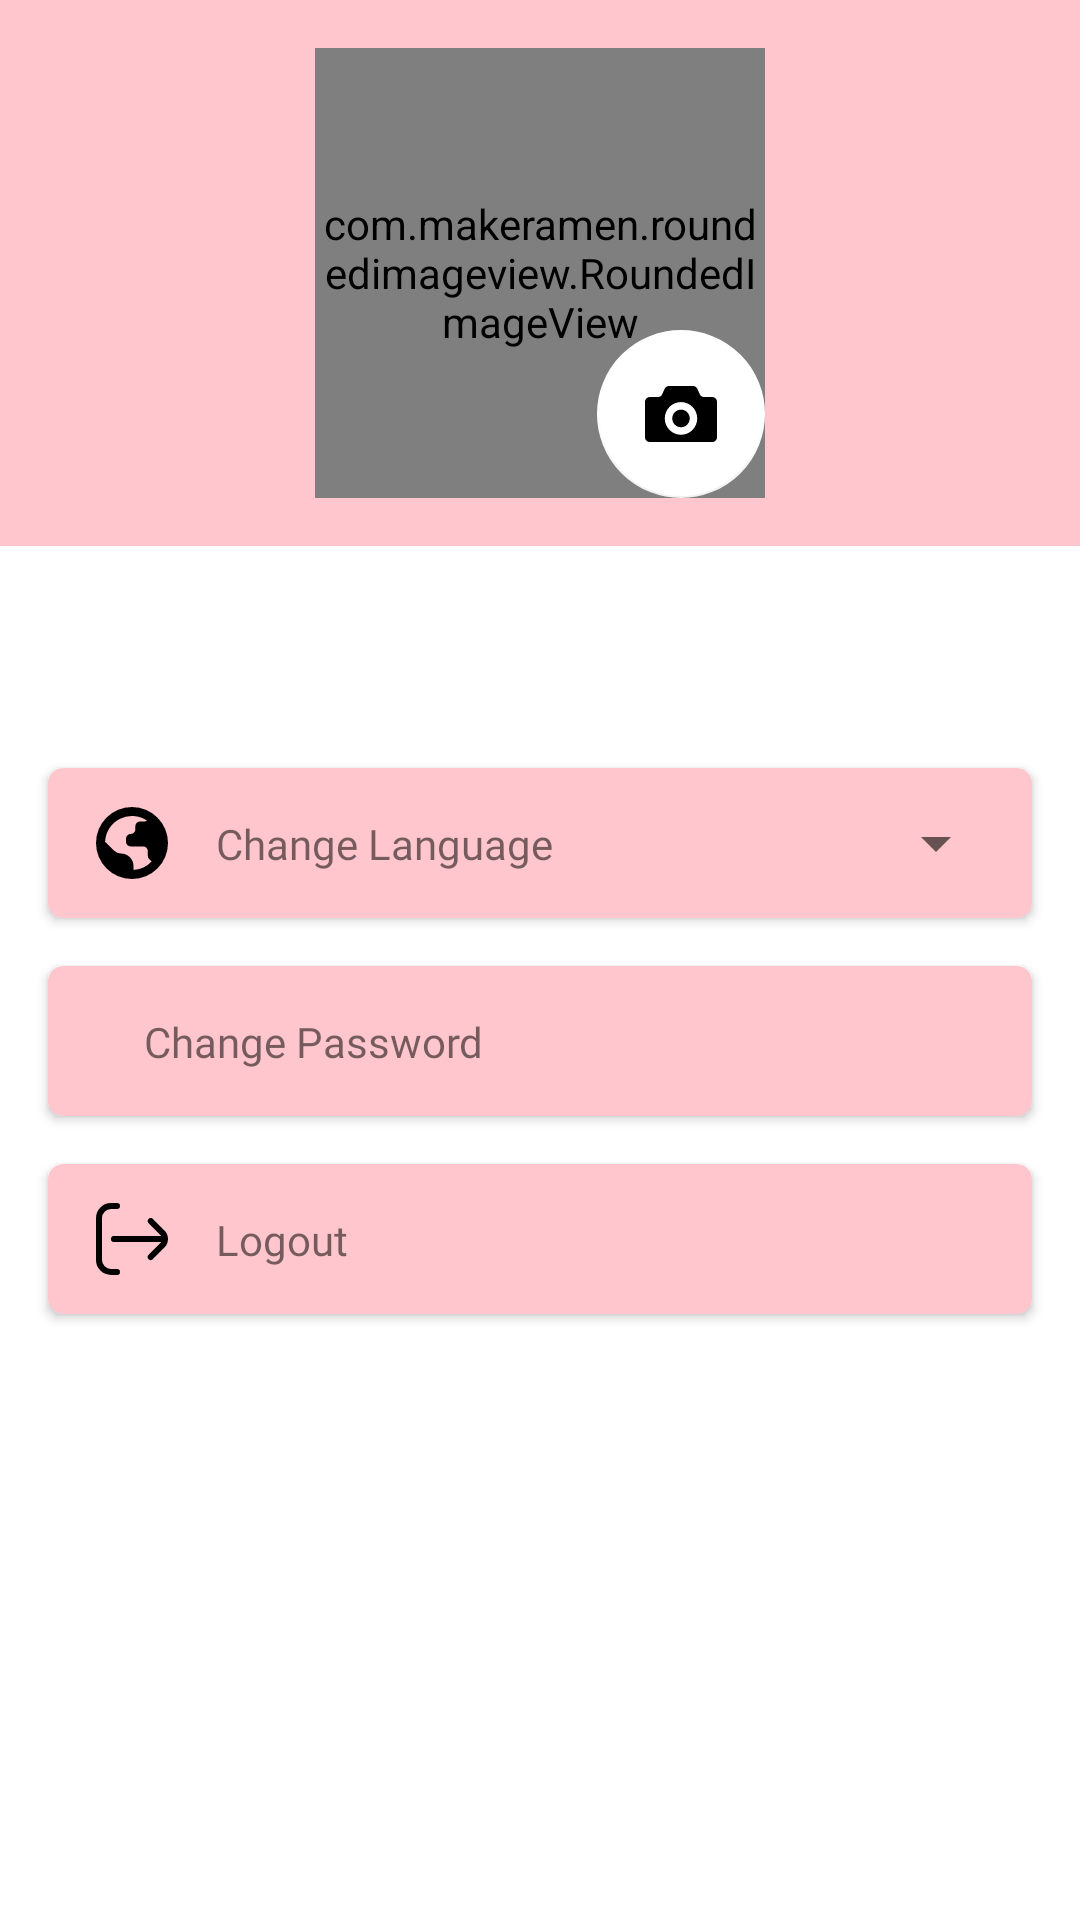

Point at icon controls on the screen. Image size 1080×1920, points as (x=x, y=y).
camera: (x=681, y=414)
exit: (x=132, y=1239)
world: (x=132, y=843)
